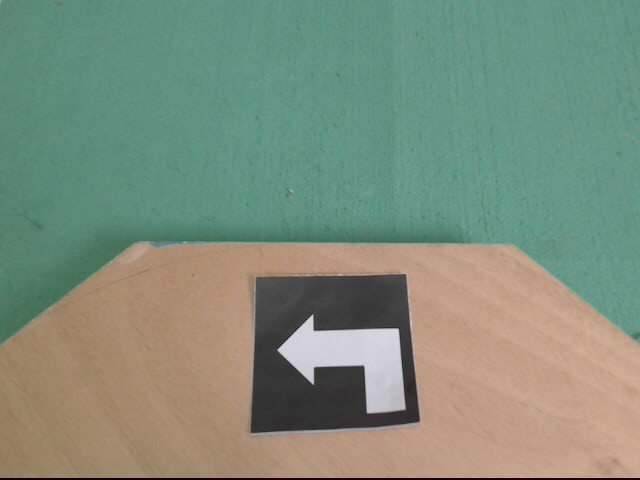left: (248, 271, 425, 433)
